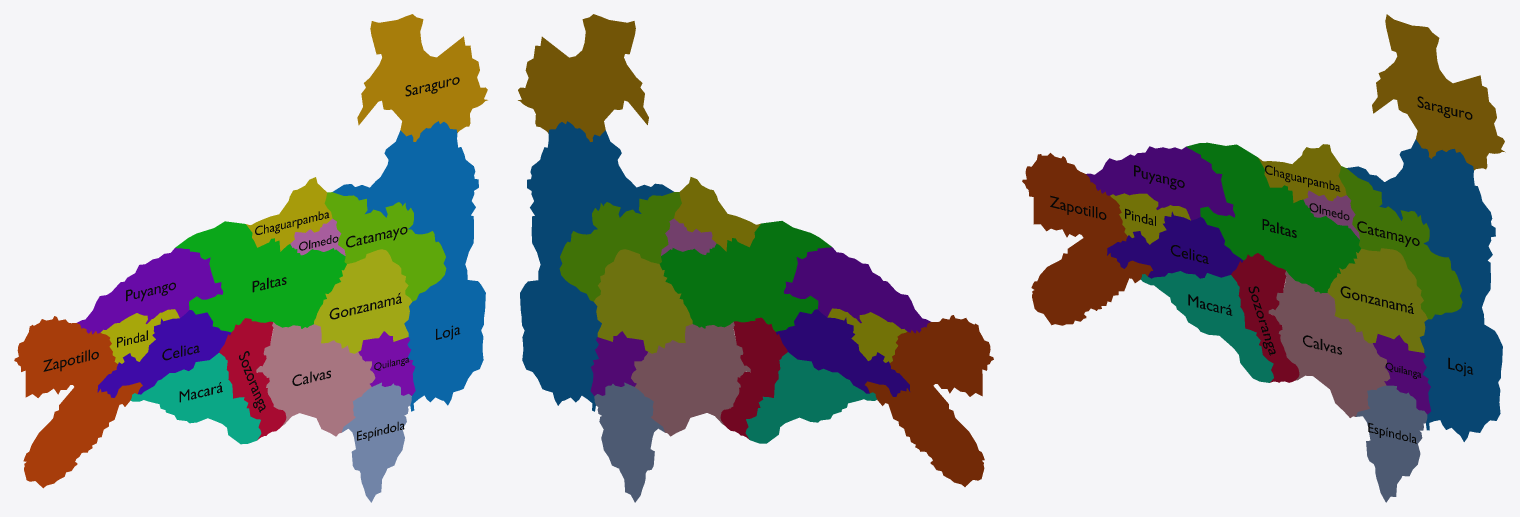
The model's file is loja.glb.
The picture shows the model from 3 angles, left to right: view 1: azimuth 30°, elevation 25°; view 2: azimuth 150°, elevation 25°; view 3: azimuth 330°, elevation 25°; orthographic projection.
Visible parts, largest first — view 1: loja, zapotillo, paltas, saraguro, calvas, gonzanama, catamayo, puyango, macara, celica, espindola, sozoranga (+4 smaller); view 2: loja, zapotillo, paltas, saraguro, calvas, gonzanama, catamayo, puyango, macara, celica, espindola, sozoranga (+4 smaller); view 3: loja, zapotillo, paltas, saraguro, calvas, gonzanama, catamayo, puyango, macara, celica, espindola, sozoranga (+4 smaller).
Boxes of the visible parts, box(x1,y1,x2,y2) form: loja: box(332, 121, 485, 411); zapotillo: box(14, 316, 142, 488); paltas: box(175, 221, 346, 332); saraguro: box(357, 14, 487, 141); calvas: box(256, 322, 375, 436); gonzanama: box(314, 249, 412, 353); catamayo: box(324, 192, 446, 301); puyango: box(77, 248, 223, 334); macara: box(130, 353, 261, 444); celica: box(97, 310, 231, 397); espindola: box(341, 382, 411, 502); sozoranga: box(219, 318, 286, 440); loja: box(520, 121, 673, 411); zapotillo: box(865, 315, 993, 486); paltas: box(659, 221, 831, 331); saraguro: box(518, 14, 648, 141); calvas: box(631, 322, 750, 436); gonzanama: box(594, 249, 692, 353); catamayo: box(559, 192, 681, 301); puyango: box(784, 247, 930, 333); macara: box(745, 352, 876, 443); celica: box(776, 309, 910, 396); espindola: box(594, 382, 664, 502); sozoranga: box(720, 317, 787, 439); loja: box(1346, 139, 1502, 441); zapotillo: box(1022, 153, 1152, 325); paltas: box(1186, 142, 1361, 293); saraguro: box(1372, 14, 1505, 170); calvas: box(1268, 271, 1390, 417); gonzanama: box(1327, 248, 1427, 352); catamayo: box(1338, 166, 1462, 319); puyango: box(1086, 146, 1235, 220); macara: box(1141, 271, 1273, 382); celica: box(1107, 211, 1243, 278); espindola: box(1356, 385, 1427, 502); sozoranga: box(1231, 253, 1299, 382).
Bounding box in the file's own units: 9.55 × 9.25 × 0.0664.
